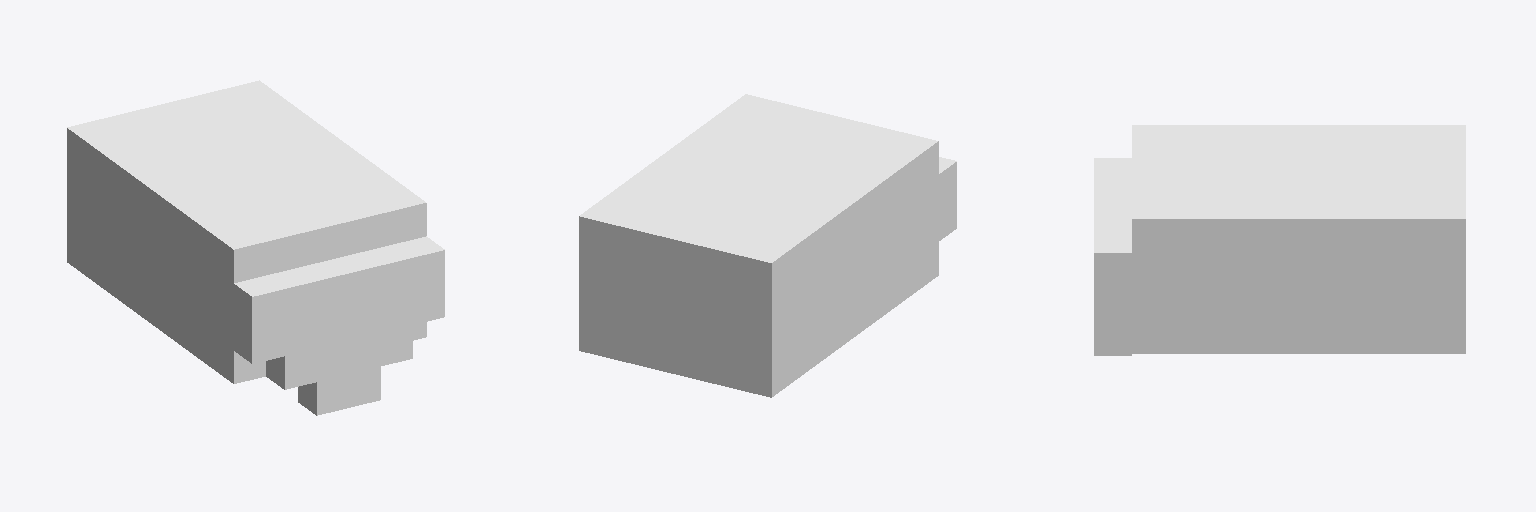
File: ZIBU_Original_Animation_Ready-4.obj
3 views of the same model, side by side, from view 1: azimuth 30°, elevation 25°; view 2: azimuth 150°, elevation 25°; view 3: azimuth 270°, elevation 25° (orthographic).
Parts seen in each view (by area): view 1: object 1; view 2: object 1; view 3: object 1.
Boxes of the visible parts, box(x1,y1,x2,y2) form: object 1: box(67, 80, 444, 415); object 1: box(579, 94, 956, 397); object 1: box(1094, 125, 1465, 355).
Bounding box in the file's own units: 1.2 × 1 × 2.